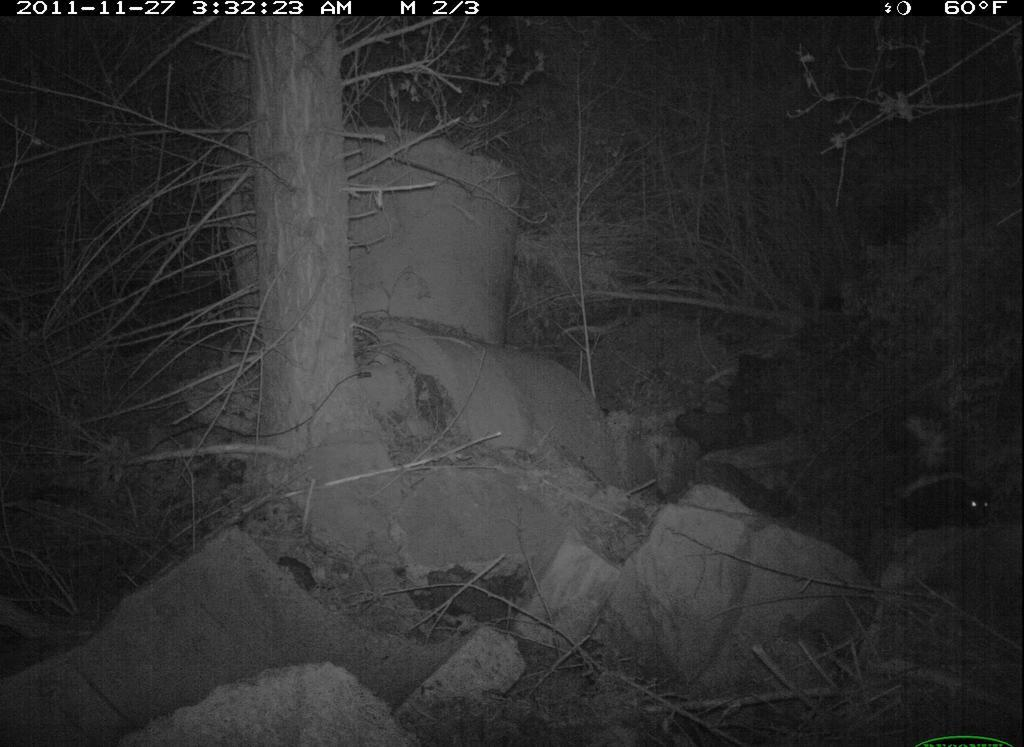skunk: (880, 408, 1003, 539)
